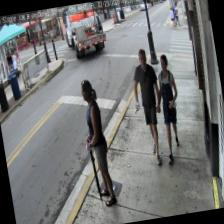person: (126, 47, 170, 167), (77, 76, 117, 206), (150, 53, 188, 164)
